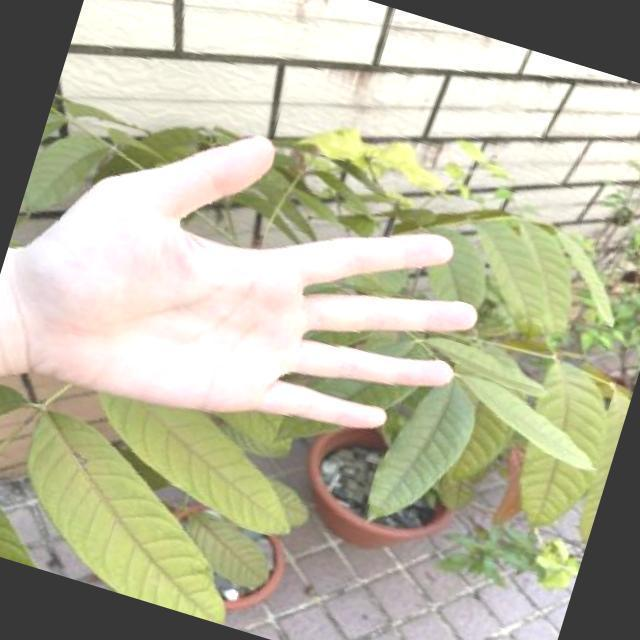hand: (0, 66, 527, 536)
